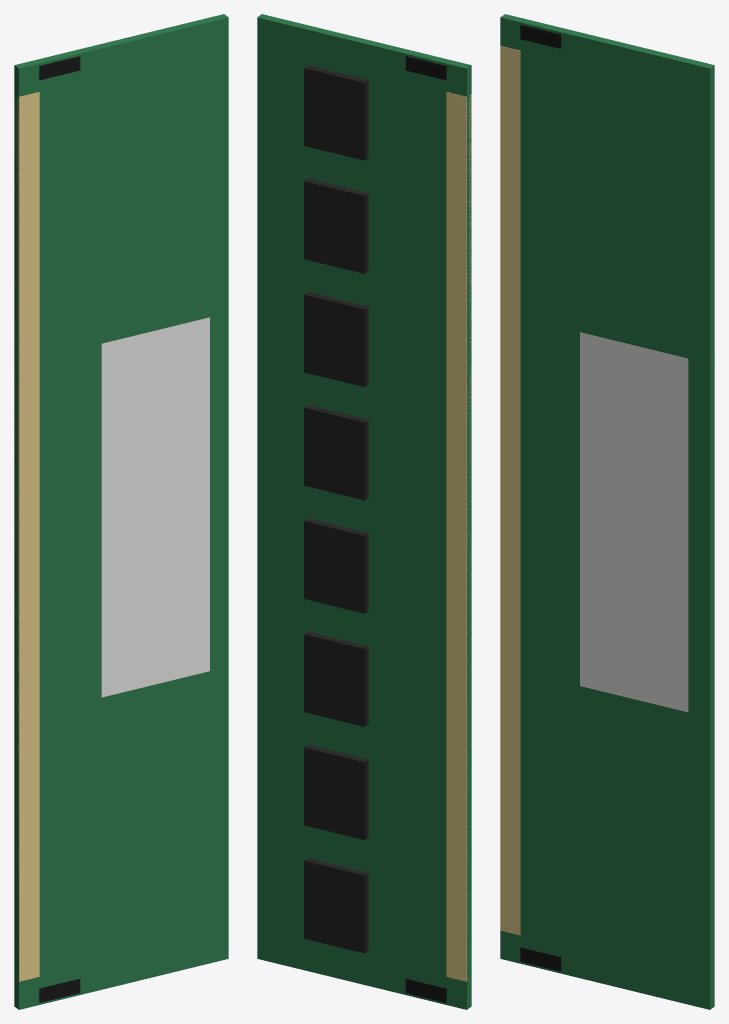
The model's file is ram_dimm.glb.
3 renders of one model, left to right at view 1: azimuth 30°, elevation 25°; view 2: azimuth 150°, elevation 25°; view 3: azimuth 330°, elevation 25°, orthographic.
Parts seen in each view (by area): view 1: ram_dimm_body, label_ram_dimm; view 2: ram_dimm_body; view 3: ram_dimm_body, label_ram_dimm.
Boxes of the visible parts, box(x1,y1,x2,y2) form: ram_dimm_body: box(14, 14, 228, 1009); label_ram_dimm: box(101, 317, 209, 697); ram_dimm_body: box(257, 14, 471, 1009); ram_dimm_body: box(500, 14, 714, 1009); label_ram_dimm: box(580, 332, 688, 712).
Bounding box in the file's own units: 0.031 × 0.133 × 0.0026.
